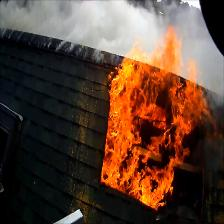fire: (111, 54, 208, 208)
smoke: (12, 2, 207, 46)
